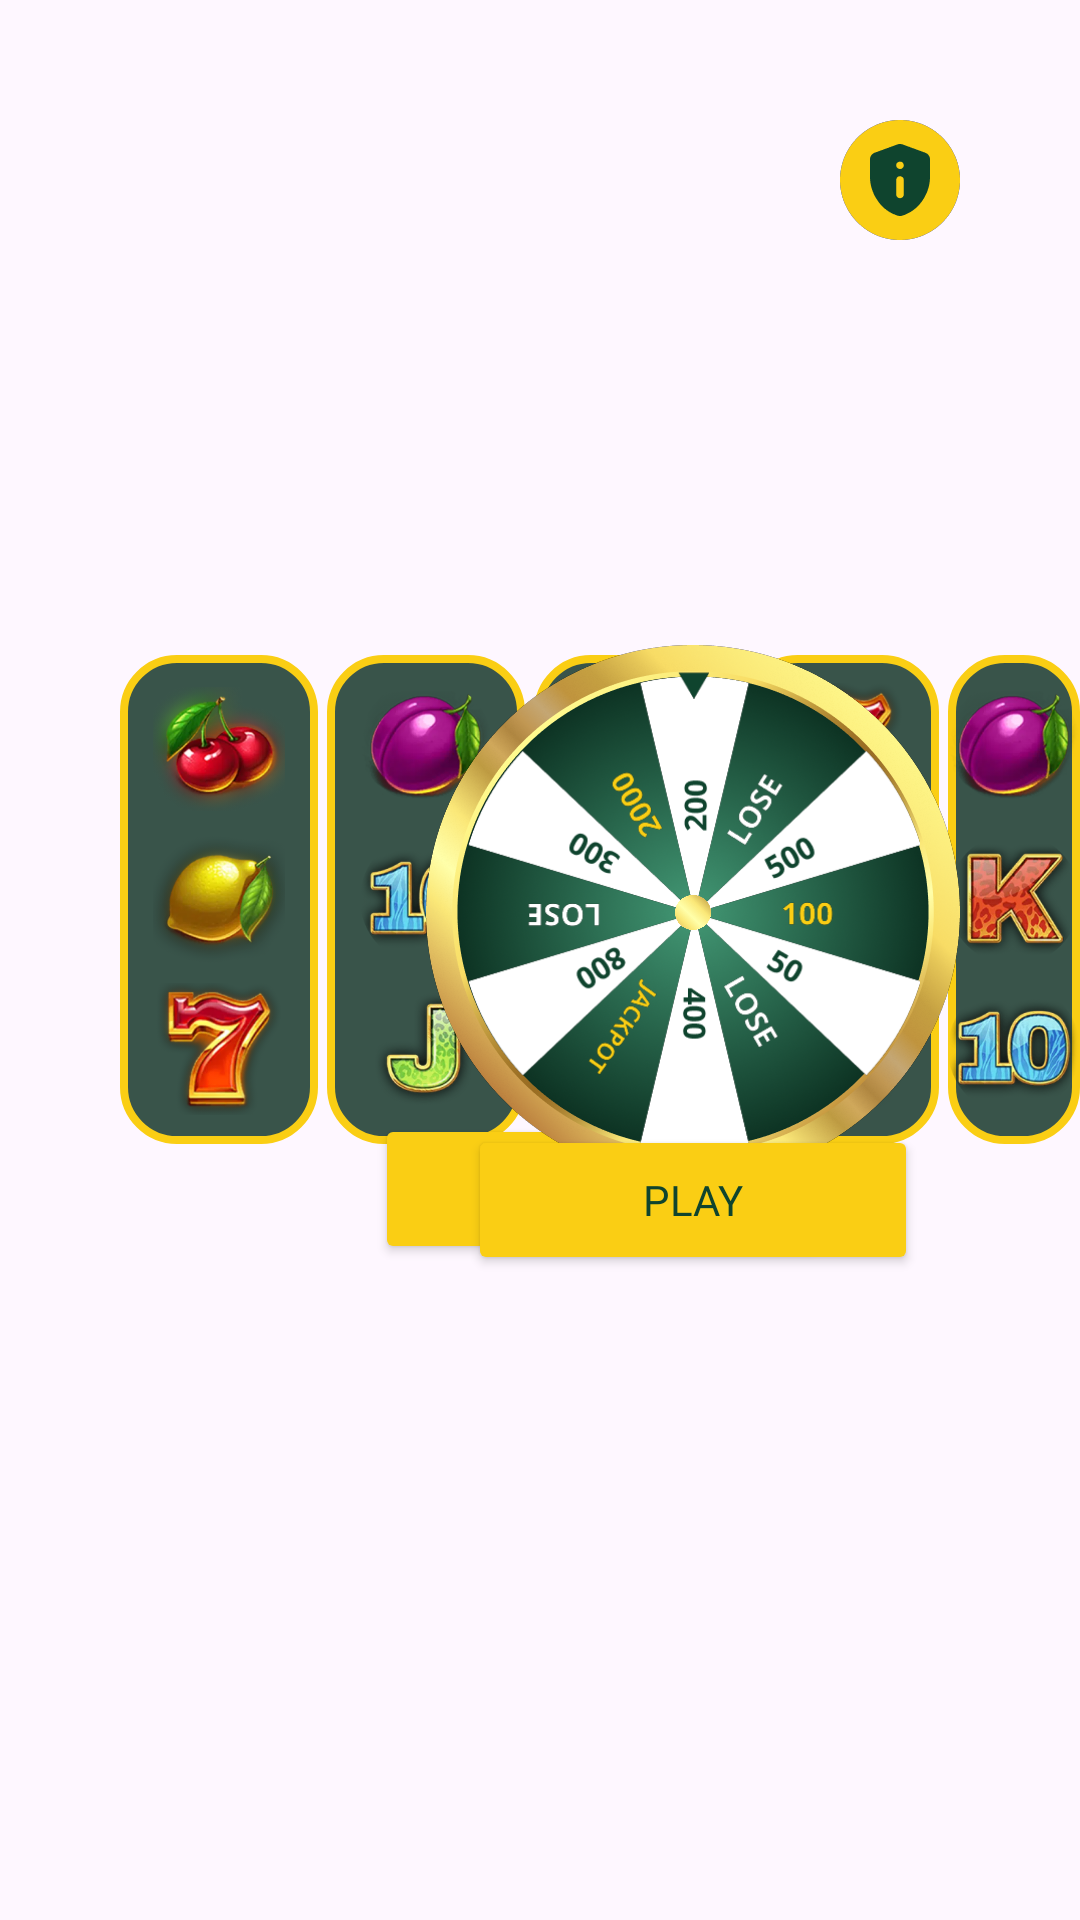

Screen size 1080*1920. Icon name, then its box in pixels as rect(x1, y1, x2, y2):
Privacy policy: rect(840, 120, 960, 240)
